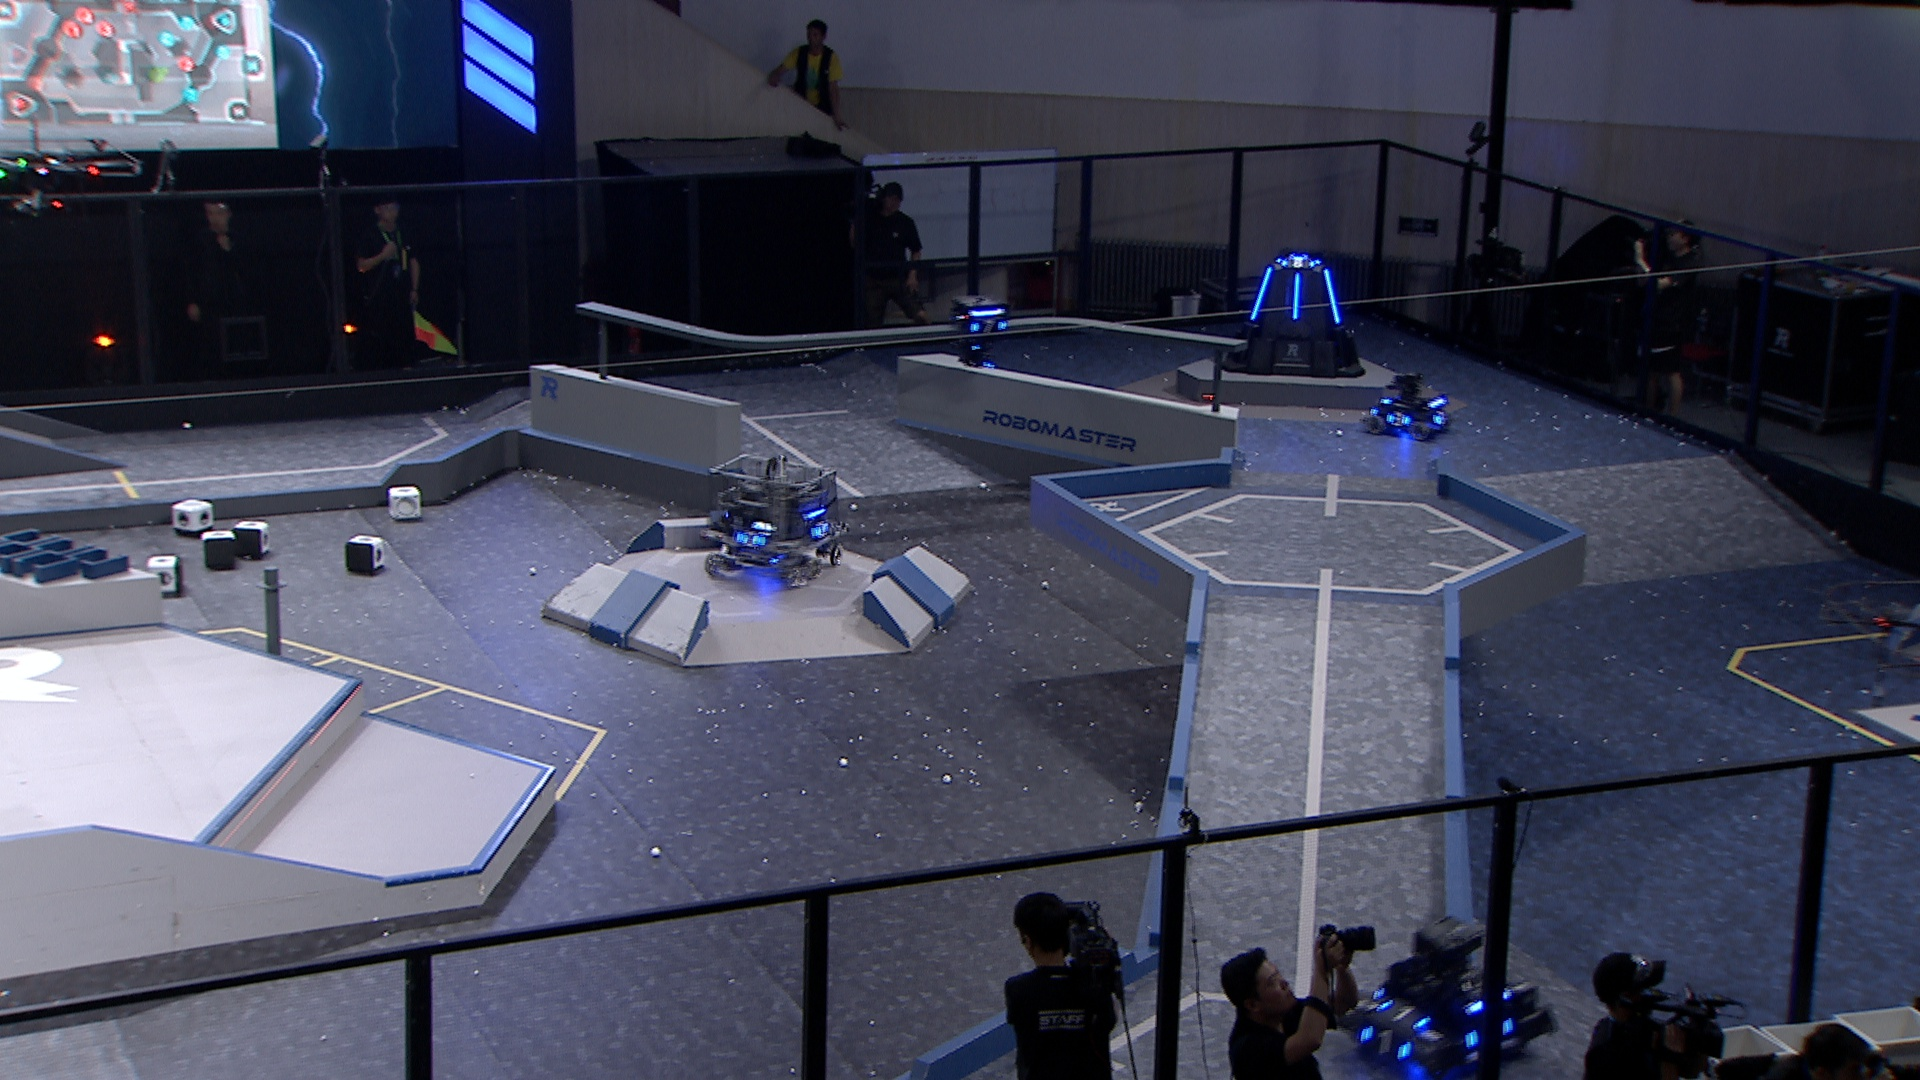armor: (1356, 1026, 1414, 1060), (1375, 1000, 1432, 1030), (1249, 266, 1273, 320), (1321, 268, 1342, 324), (736, 529, 766, 551), (1278, 256, 1320, 272), (1291, 272, 1304, 320), (968, 320, 1007, 335), (1385, 411, 1411, 429), (808, 520, 832, 538), (1429, 410, 1448, 427)
base: (1209, 248, 1367, 377)
car: (1335, 915, 1549, 1080), (699, 454, 851, 595), (1364, 372, 1460, 439)
watcher: (948, 291, 1015, 368)
